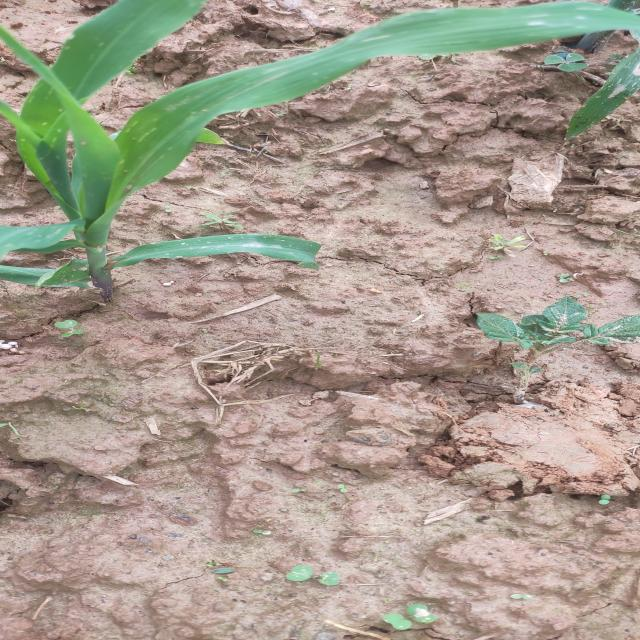maize: (3, 0, 640, 304)
weed: (441, 298, 640, 382)
